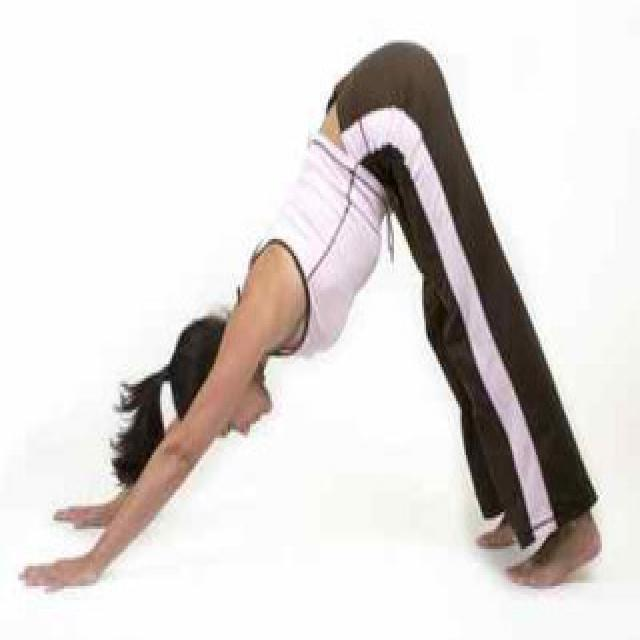yoga-pose downward: (35, 40, 601, 597)
